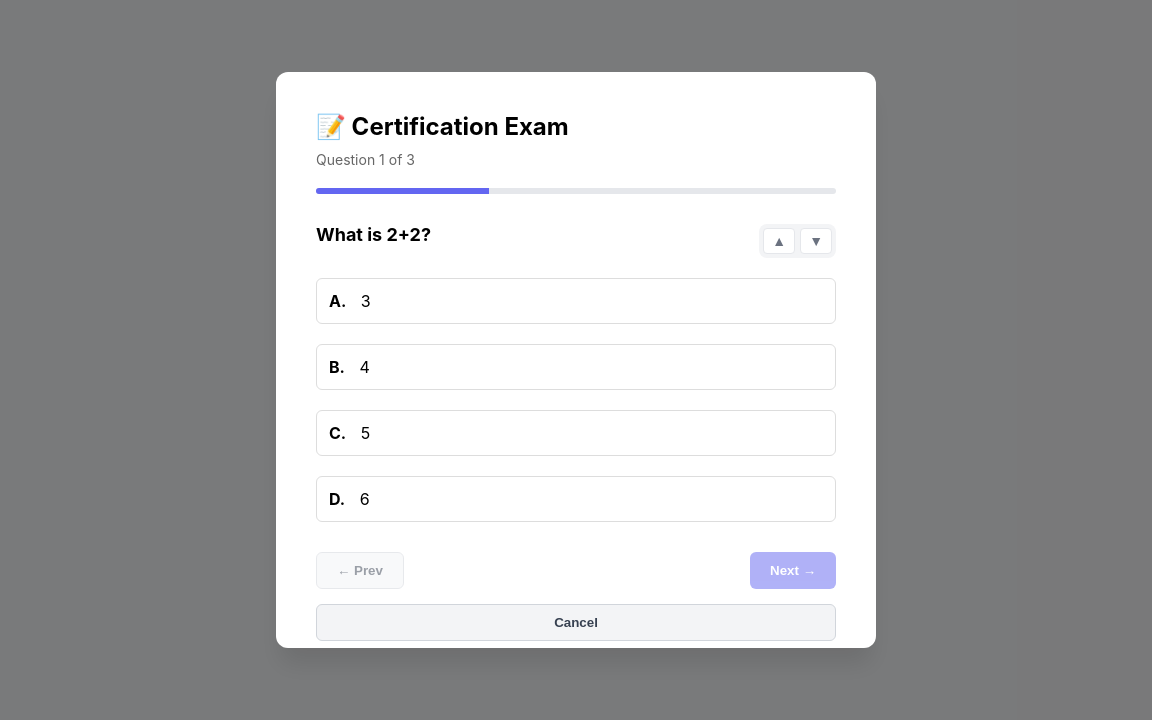
QuizModal Component Tests › successfully passes a quiz (3/3 correct)
The image size is (1152, 720).
Check: the heading "What is 2+2?" is shown, box x1=316 y1=224 x2=431 y2=245
Note: Answer Question 1: "4" (Index 1)
Click the text "B. 4" at (576, 367), box x1=316 y1=344 x2=836 y2=390
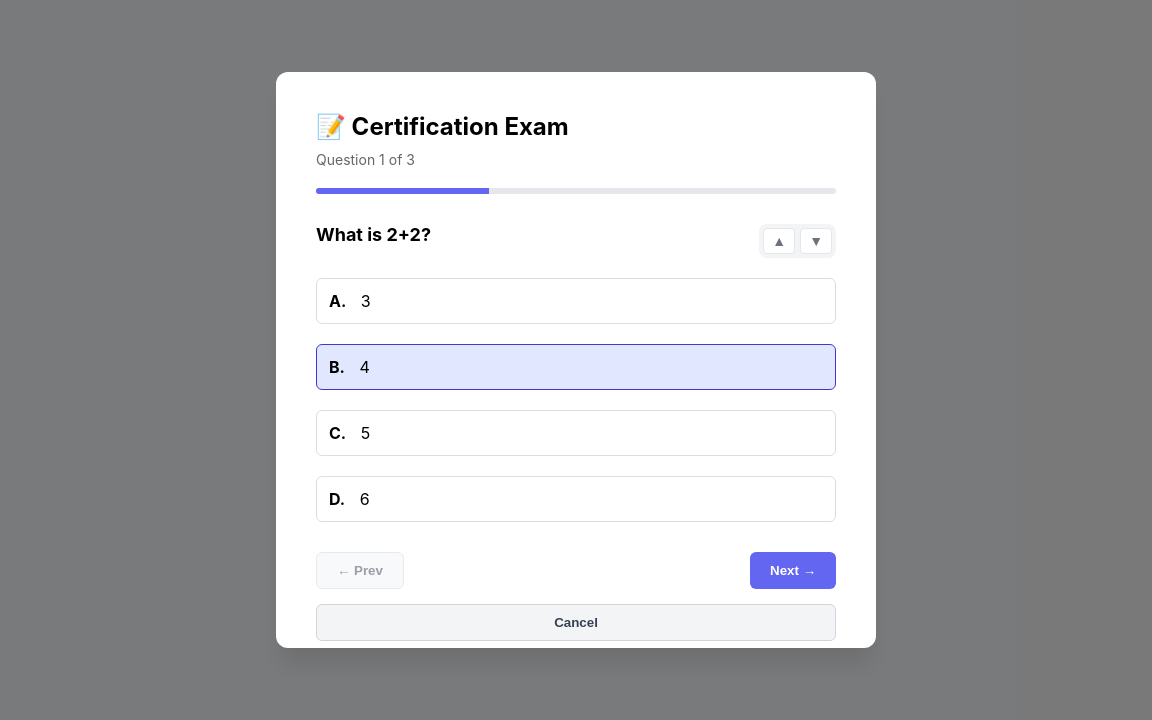
Click the button "Next →" at (793, 570), box x1=750 y1=552 x2=836 y2=589
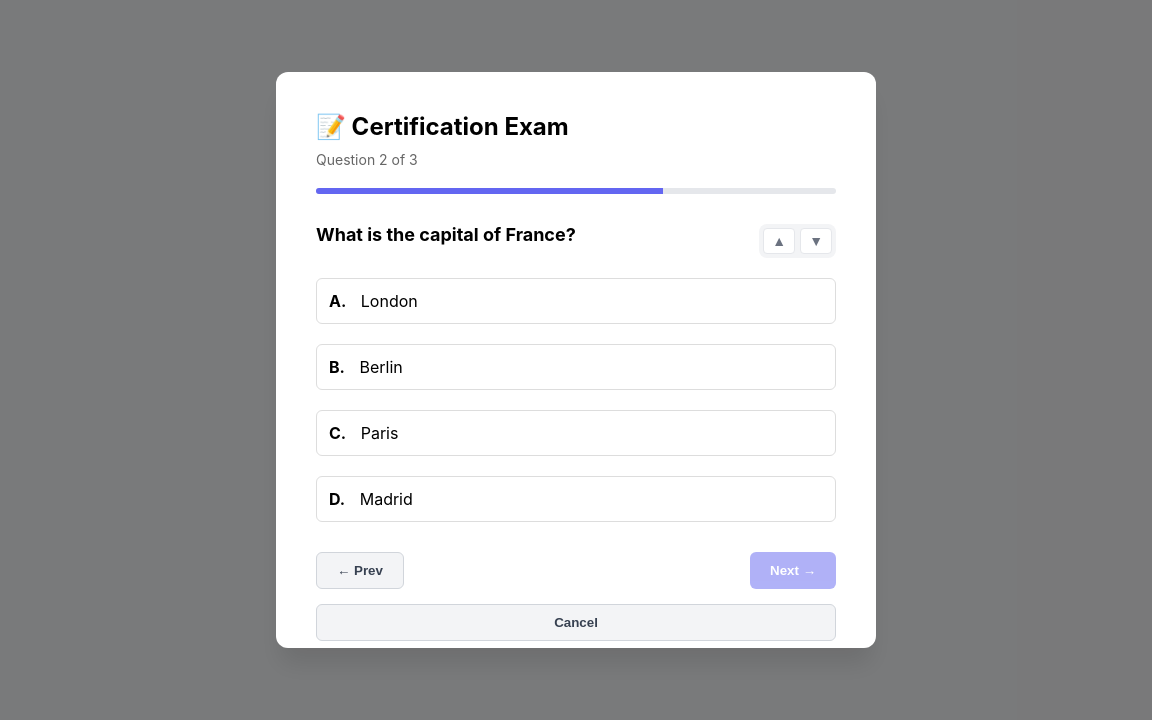
Check: the heading "What is the capital of France?" is shown, box x1=316 y1=224 x2=576 y2=245
Click the text "C. Paris" at (576, 433), box x1=316 y1=410 x2=836 y2=456
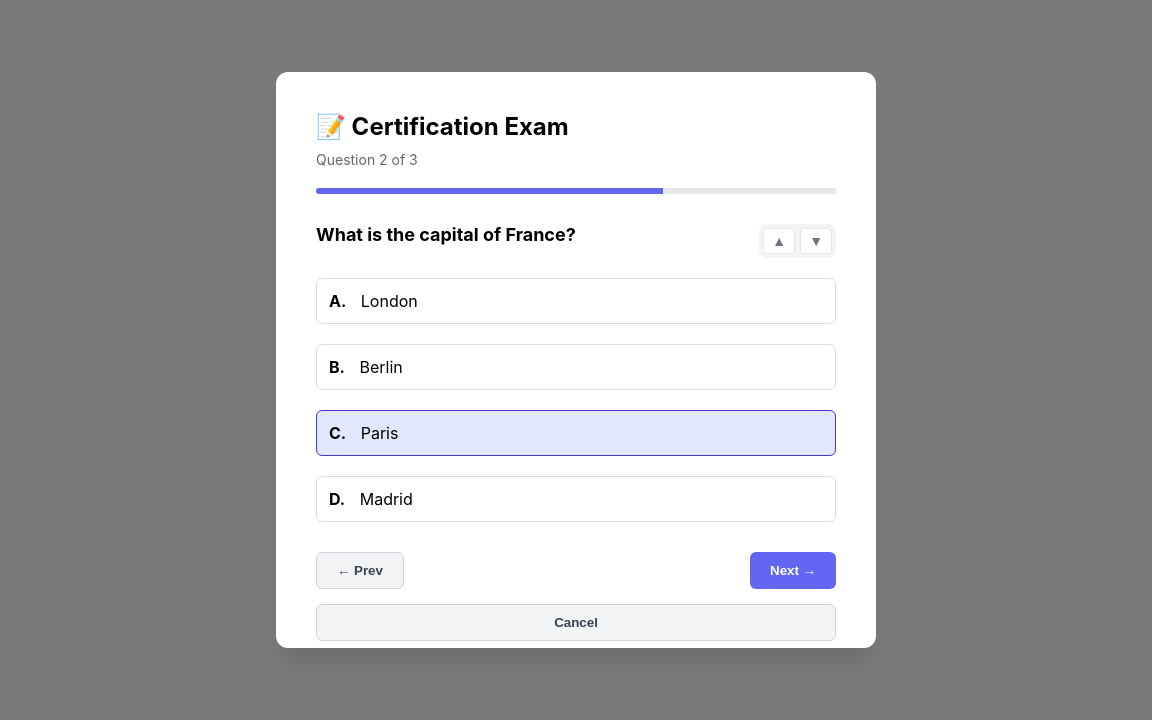
Click the button "Next →" at (793, 570), box x1=750 y1=552 x2=836 y2=589
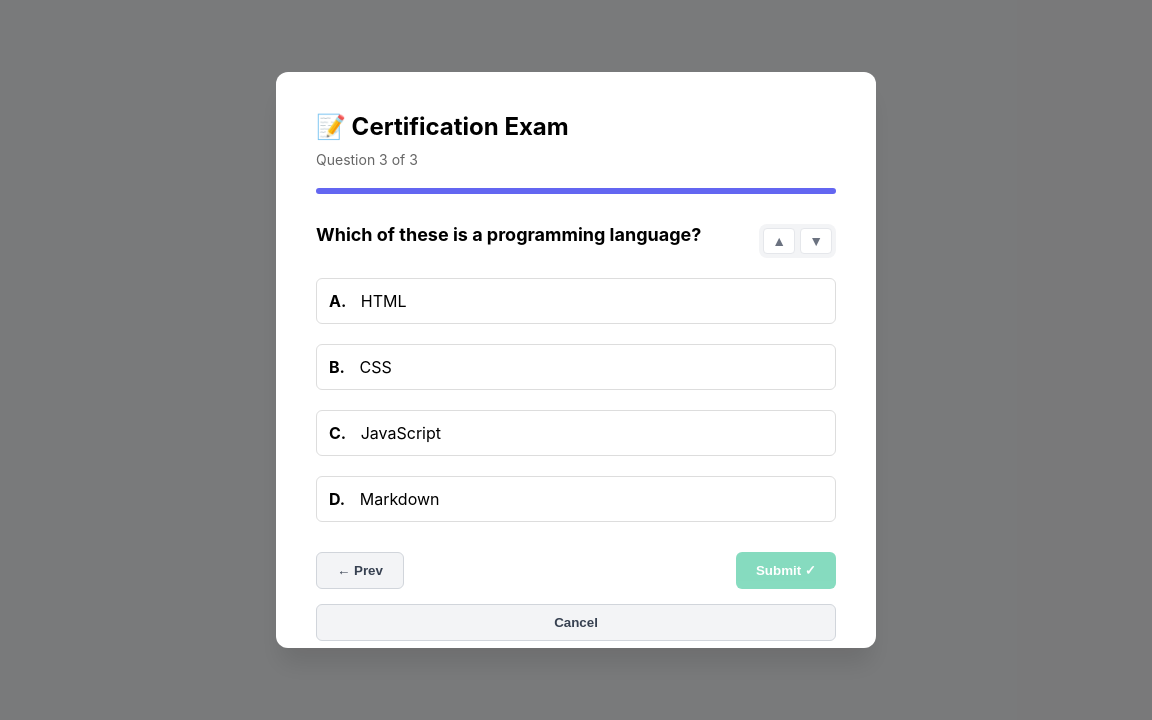
Check: the heading "Which of these is a programming language?" is shown, box x1=316 y1=224 x2=701 y2=245
Click the text "C. JavaScript" at (576, 433), box x1=316 y1=410 x2=836 y2=456
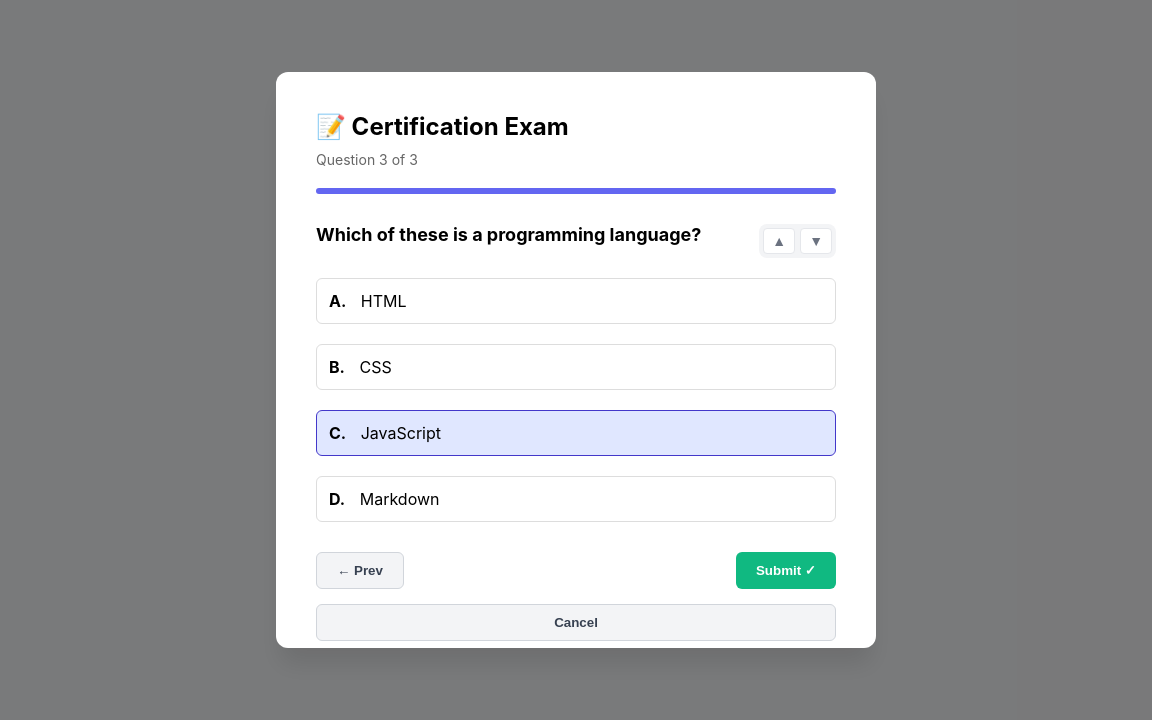
Click the button "Submit ✓" at (786, 570), box x1=736 y1=552 x2=836 y2=589
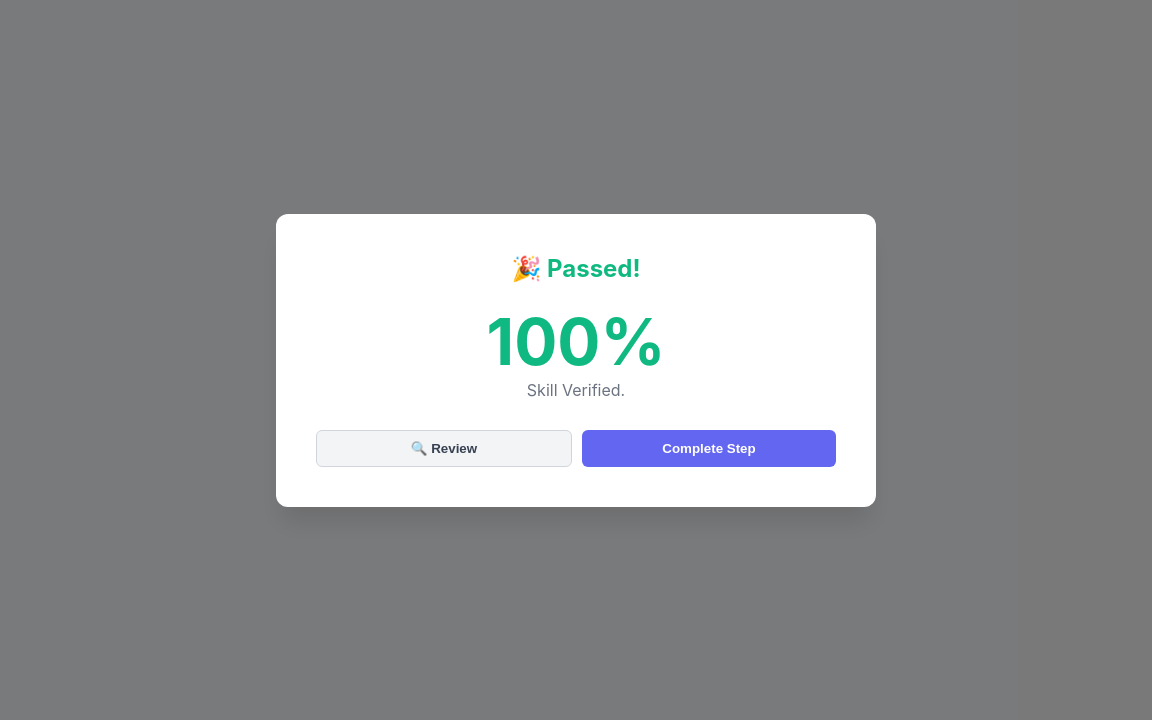
Check: the text "100%" is shown, box x1=486 y1=302 x2=665 y2=380
Check: the heading "🎉 Passed!" is shown, box x1=511 y1=254 x2=641 y2=282
